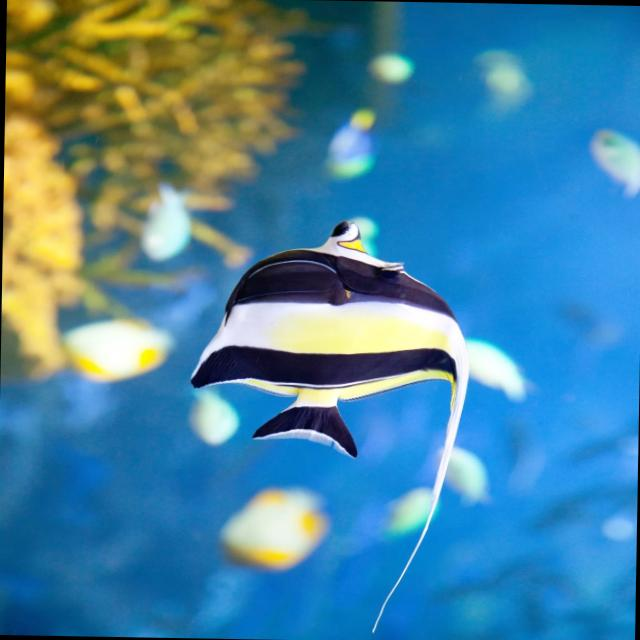MorishIdol: (182, 216, 473, 634)
